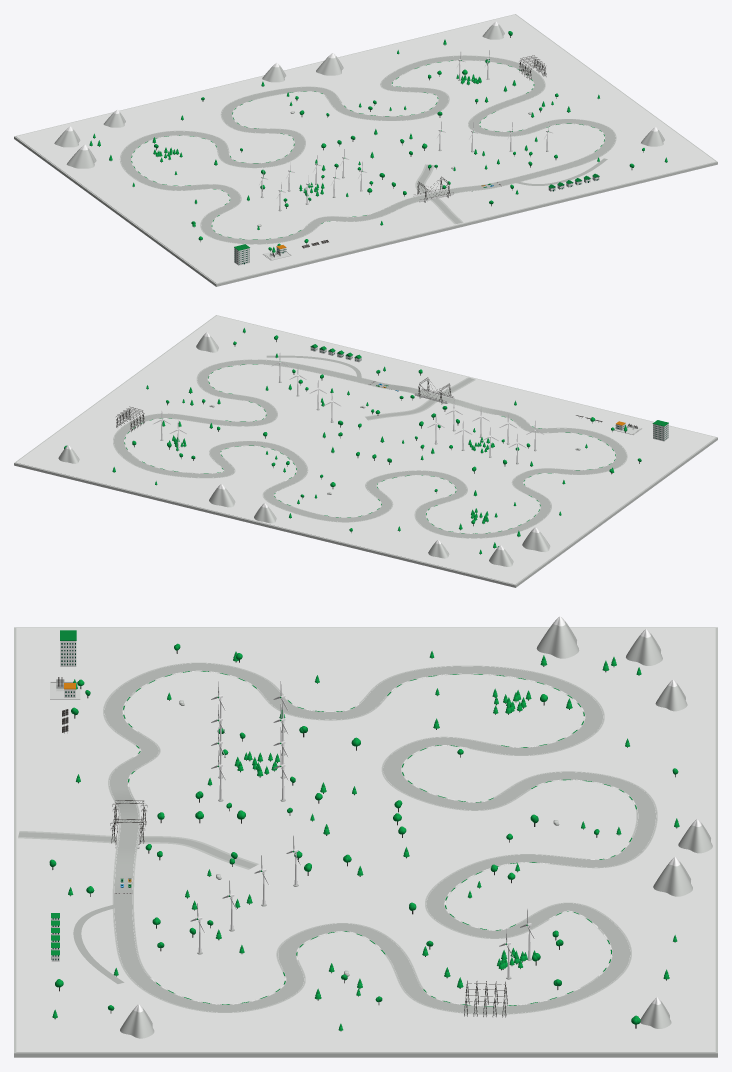
File: endurance_circuit.glb
The picture shows the model from 3 angles, top to bottom: view 1: azimuth 30°, elevation 25°; view 2: azimuth 150°, elevation 25°; view 3: azimuth 270°, elevation 25°; orthographic projection. The views are drawn at different scales.
Parts seen in each view (by area): view 1: 1_surface-ground, 0_ribbon-darkgrey, 1_landscape-base-stone, 0_road-shoulder-stone; view 2: 1_surface-ground, 0_ribbon-darkgrey, 1_landscape-base-stone, 0_road-shoulder-stone; view 3: 1_surface-ground, 0_ribbon-darkgrey, 1_landscape-base-stone, 0_road-shoulder-stone, 0_edge-line-white, 1_river-darkgrey, 37_smooth-mountain_stone, 41_smooth-mountain_stone, 0_kerb-white, 1_river-bank-stone, 0_kerb-green, 0_pit-lane-darkgrey (+3 smaller).
Part boxes in pixels (x1,y1,x2,y2): 1_surface-ground: (16,14,715,283); 0_ribbon-darkgrey: (120,55,615,244); 1_landscape-base-stone: (14,14,717,286); 0_road-shoulder-stone: (119,55,616,244); 1_surface-ground: (16,315,715,584); 0_ribbon-darkgrey: (113,359,626,538); 1_landscape-base-stone: (14,315,717,587); 0_road-shoulder-stone: (113,359,627,538); 1_surface-ground: (16,628,715,1052); 0_ribbon-darkgrey: (104,663,656,1014); 1_landscape-base-stone: (14,627,717,1057); 0_road-shoulder-stone: (103,662,657,1014); 0_edge-line-white: (104,663,656,1014); 1_river-darkgrey: (18,832,256,868); 37_smooth-mountain_stone: (536,621,579,658); 41_smooth-mountain_stone: (653,861,692,896); 0_kerb-white: (123,671,634,1006); 1_river-bank-stone: (18,831,258,869); 0_kerb-green: (123,671,636,1006); 0_pit-lane-darkgrey: (73,902,127,983).
Size of the model in its own units: 630 by 38.8 by 440.
